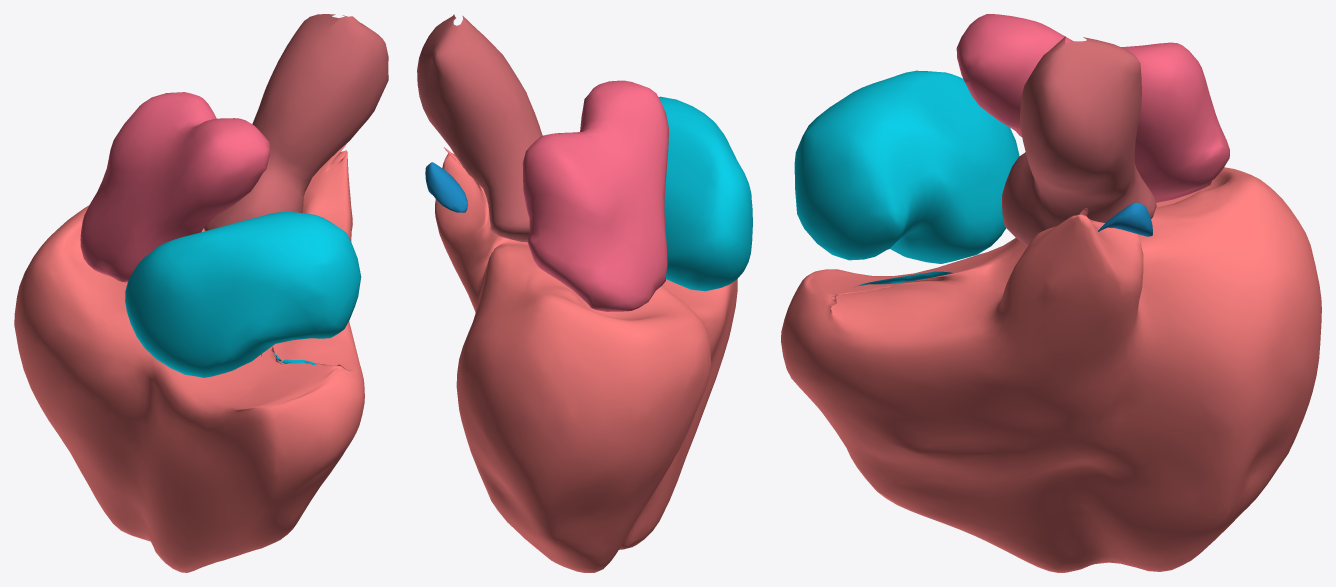
File: frame_36.glb
3 renders of one model, left to right at view 1: azimuth 30°, elevation 25°; view 2: azimuth 150°, elevation 25°; view 3: azimuth 270°, elevation 25°, orthographic. The views are drawn at different scales.
Visible parts, largest first — view 1: Renderer Node; view 2: Renderer Node; view 3: Renderer Node.
Boxes of the visible parts, bbox=[...] form: Renderer Node: bbox=[14, 14, 388, 572]; Renderer Node: bbox=[417, 14, 752, 572]; Renderer Node: bbox=[781, 14, 1321, 572].
Size of the model in its own units: 100 by 157 by 121.
